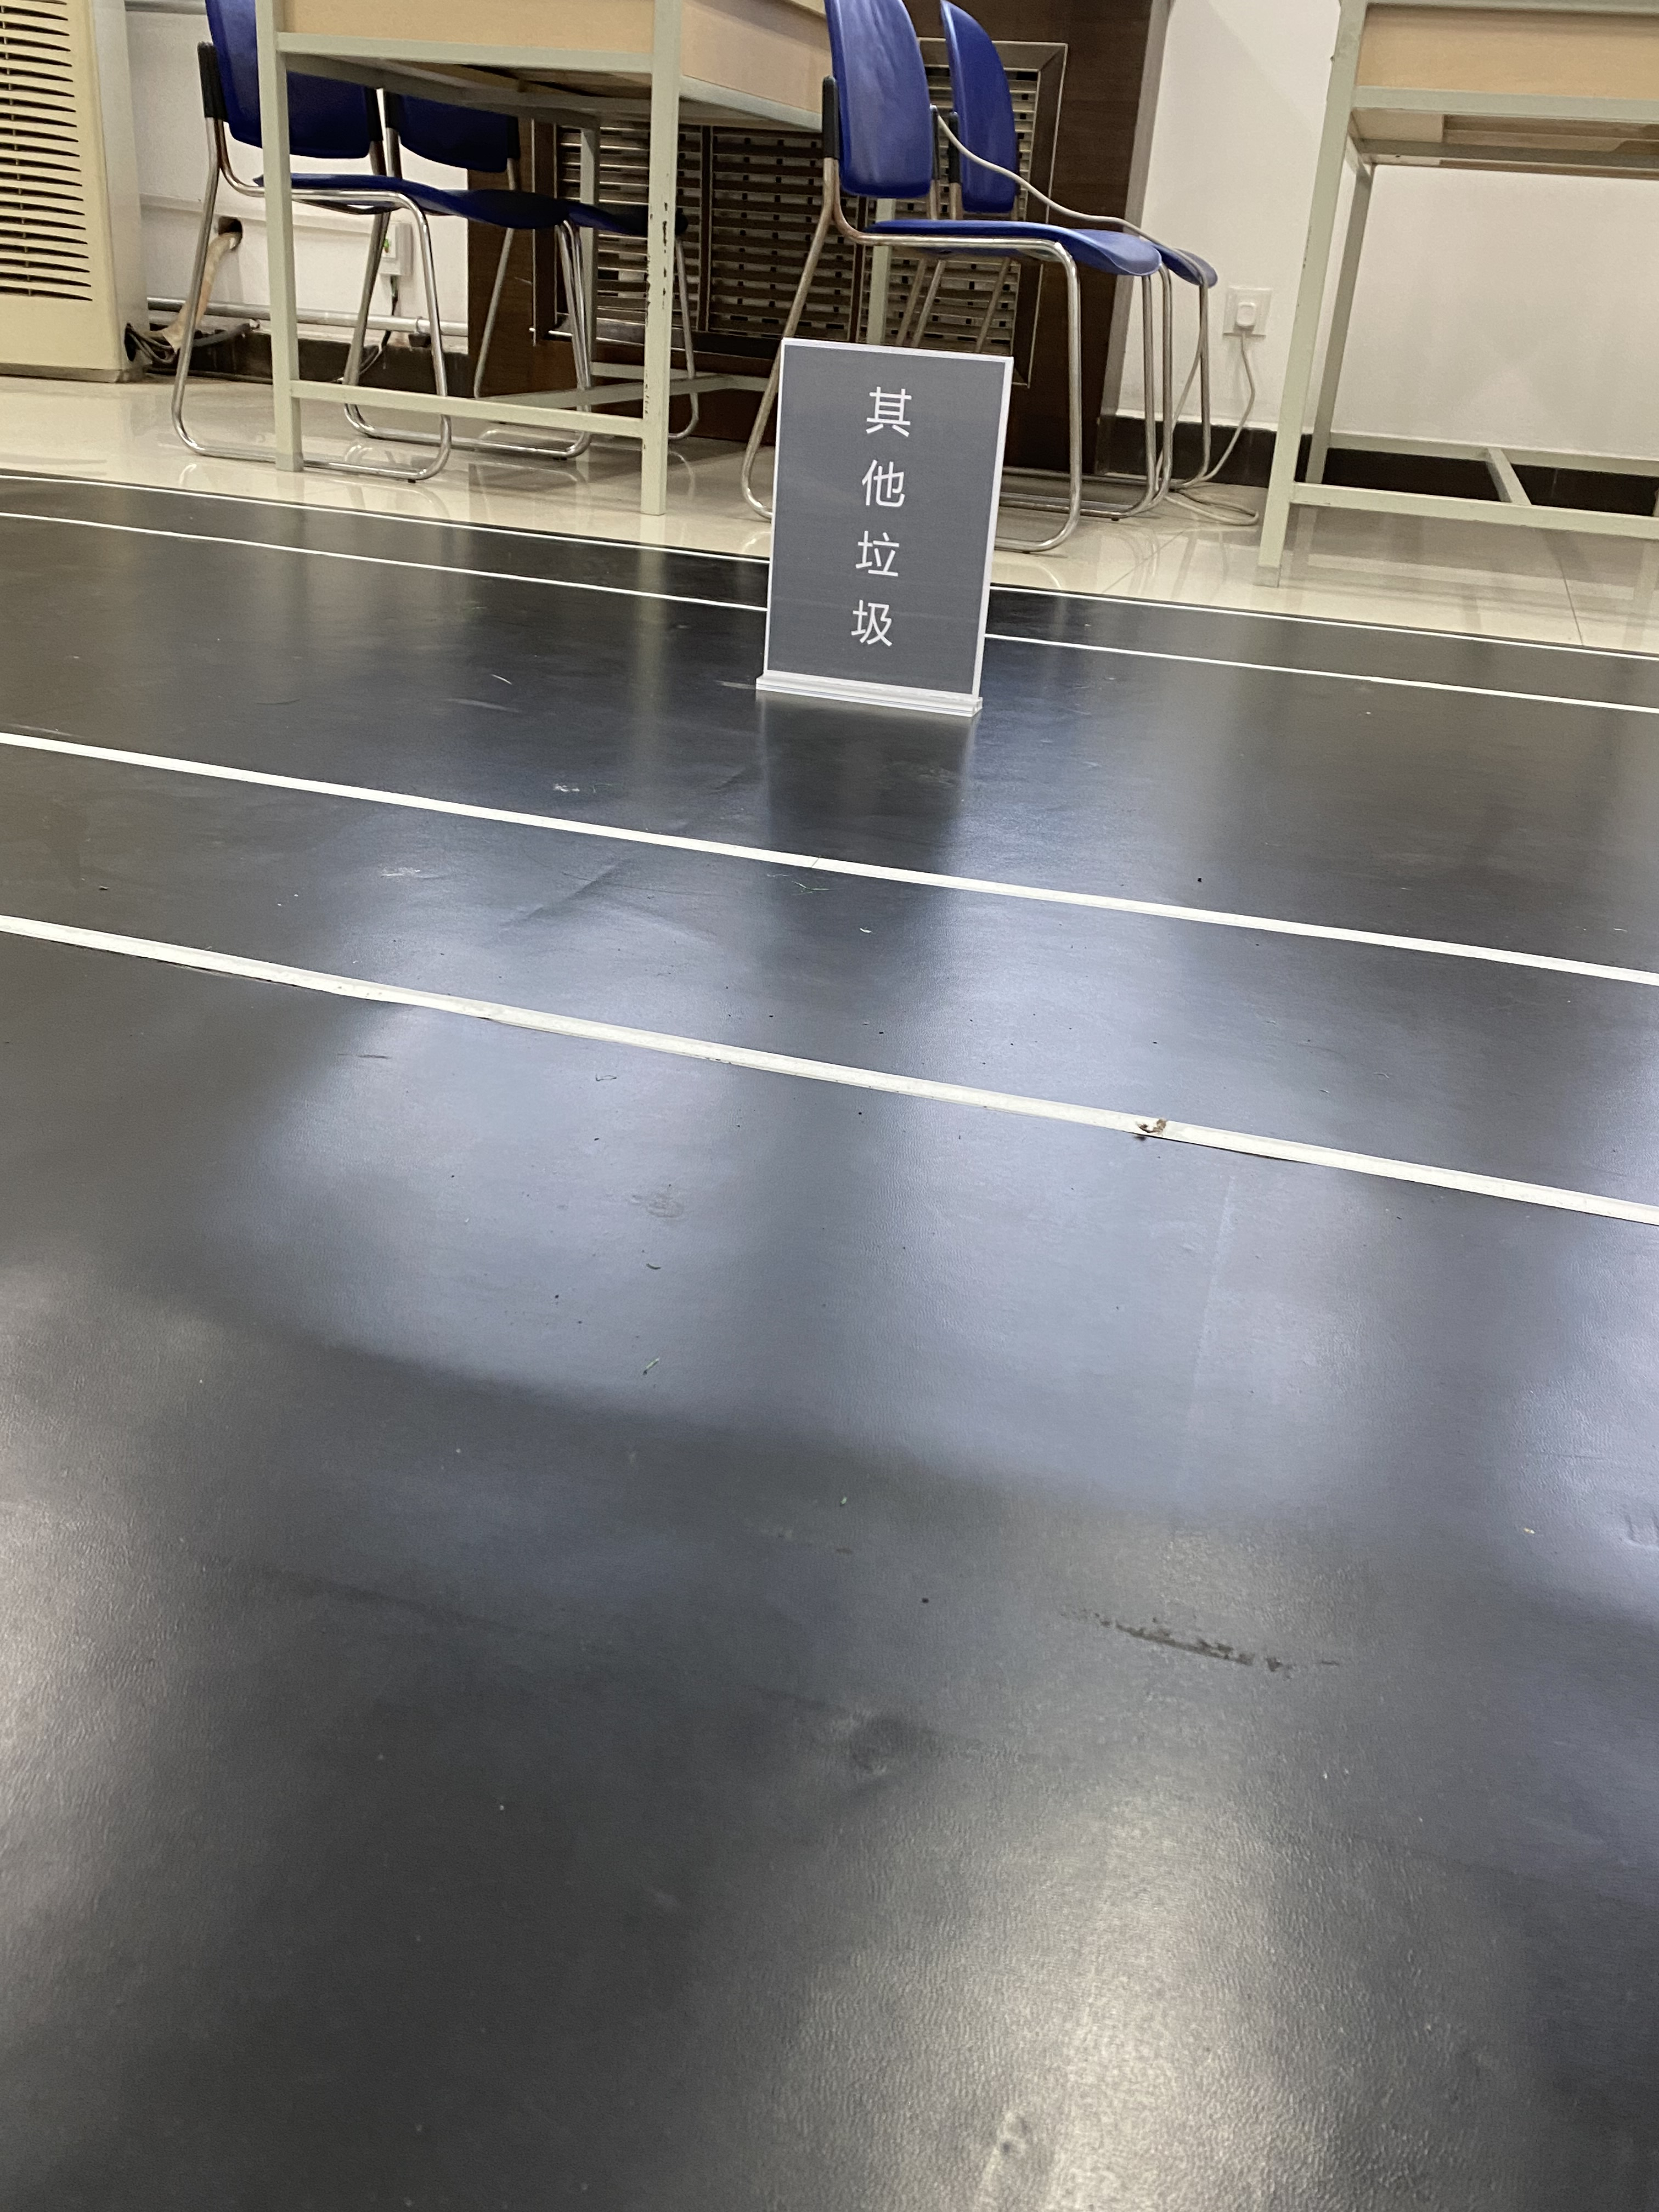black: (795, 348, 964, 665)
